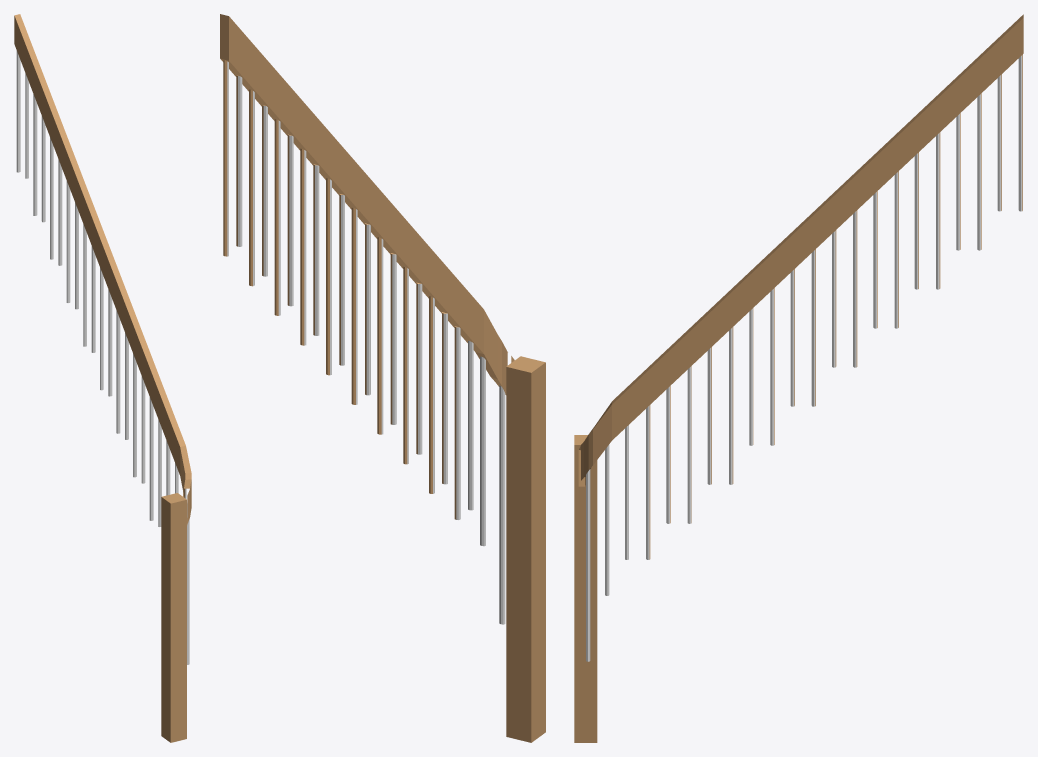
The picture shows the model from 3 angles, left to right: view 1: azimuth 30°, elevation 25°; view 2: azimuth 150°, elevation 25°; view 3: azimuth 270°, elevation 25°; orthographic projection. The views are drawn at different scales.
Parts seen in each view (by area): view 1: geländer; view 2: geländer; view 3: geländer.
Part boxes in pixels (box(x1,y1,x2,y2)): geländer: box(14, 14, 191, 742); geländer: box(220, 14, 545, 742); geländer: box(574, 14, 1023, 742).
Bounding box in the file's own units: 0.2195 × 4.06 × 2.25.
